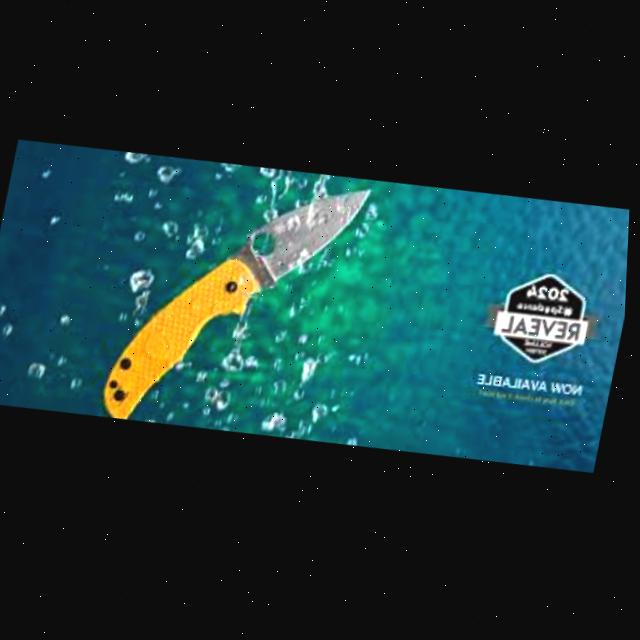knife: (102, 155, 376, 451)
